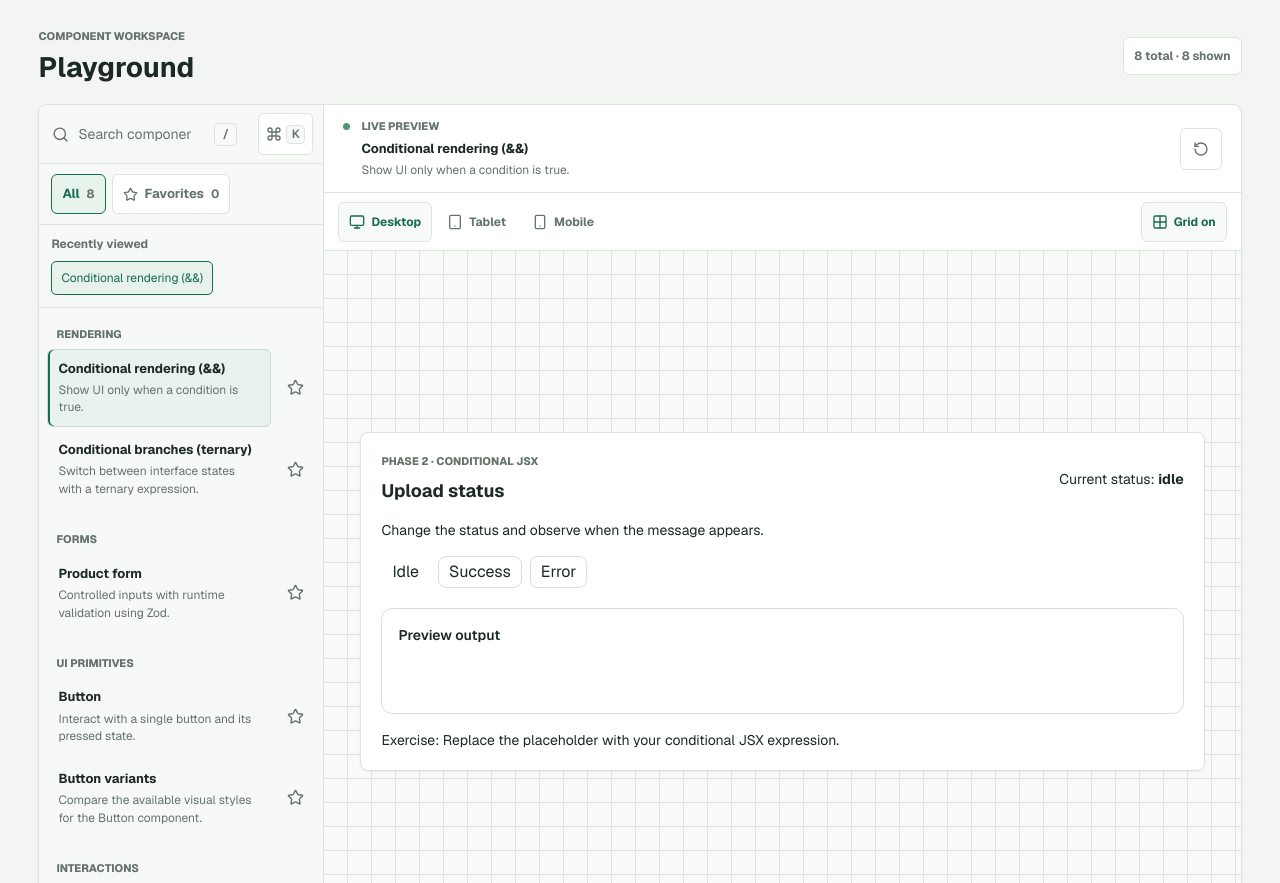
Scenario: Playground interactions › searches and filters examples, reports the count, and clears empty results
Check: the heading "Playground" is shown, box left=38, top=50, right=194, bottom=84
Type "counter" into the search field labelled "Search components" at (142, 134), box left=78, top=113, right=205, bottom=155
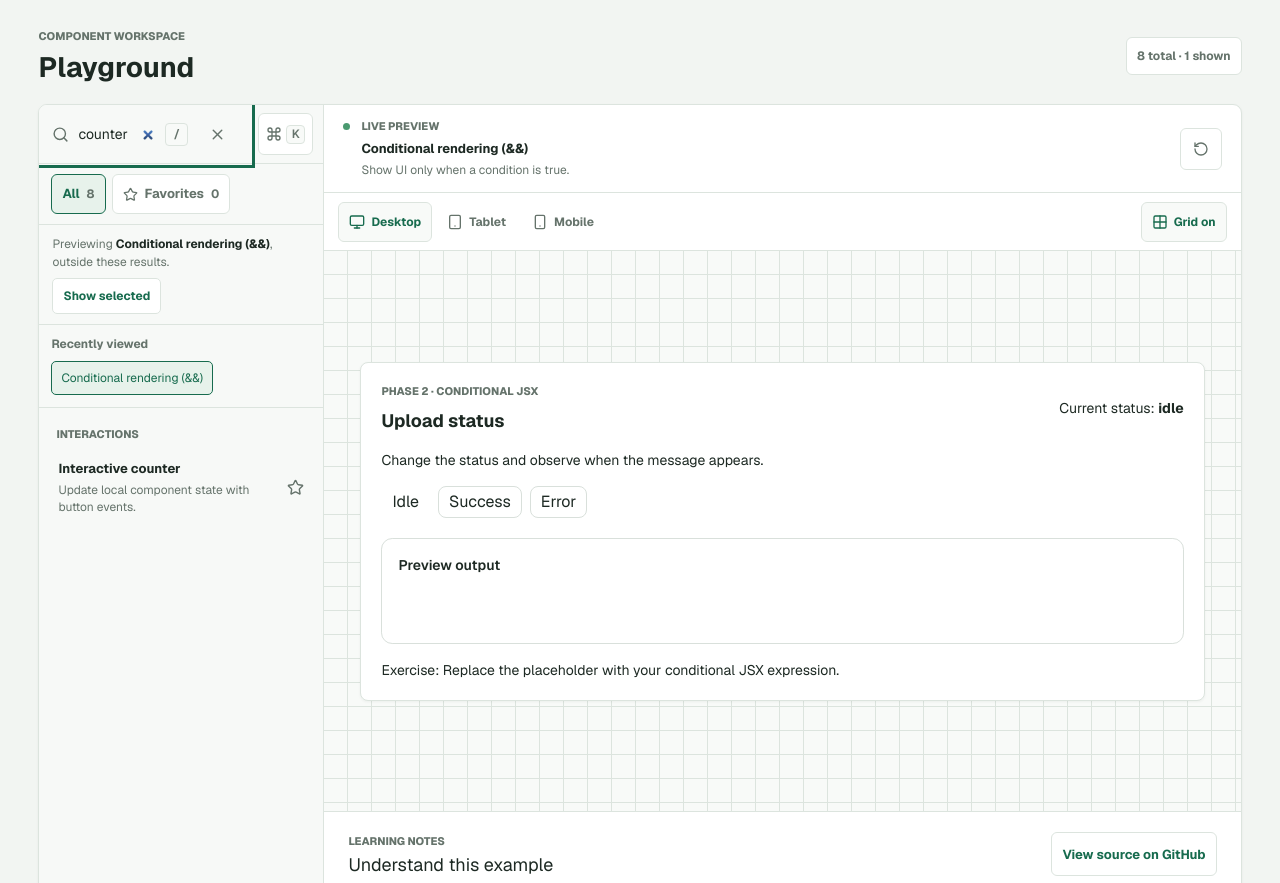
Check: the heading "Interactions" is shown, box left=56, top=427, right=139, bottom=441
Check: the text "8 total · 1 shown" is shown, box left=1126, top=37, right=1242, bottom=75
Check: the button "Product form" is gone
Clear the search field named "Search components" at (117, 134), box left=78, top=113, right=156, bottom=155
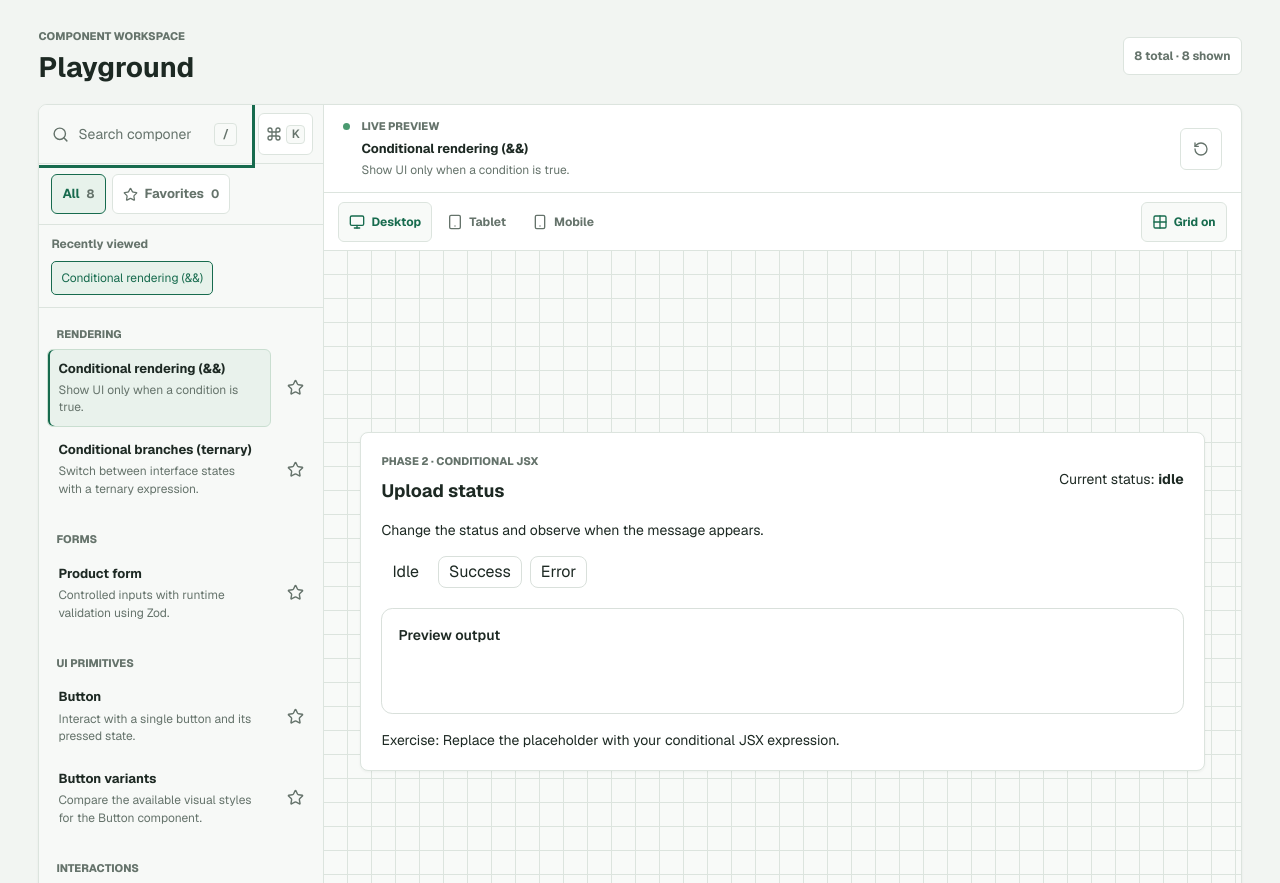
Type "no matching example" into the search field labelled "Search components" at (142, 134), box left=78, top=113, right=205, bottom=155
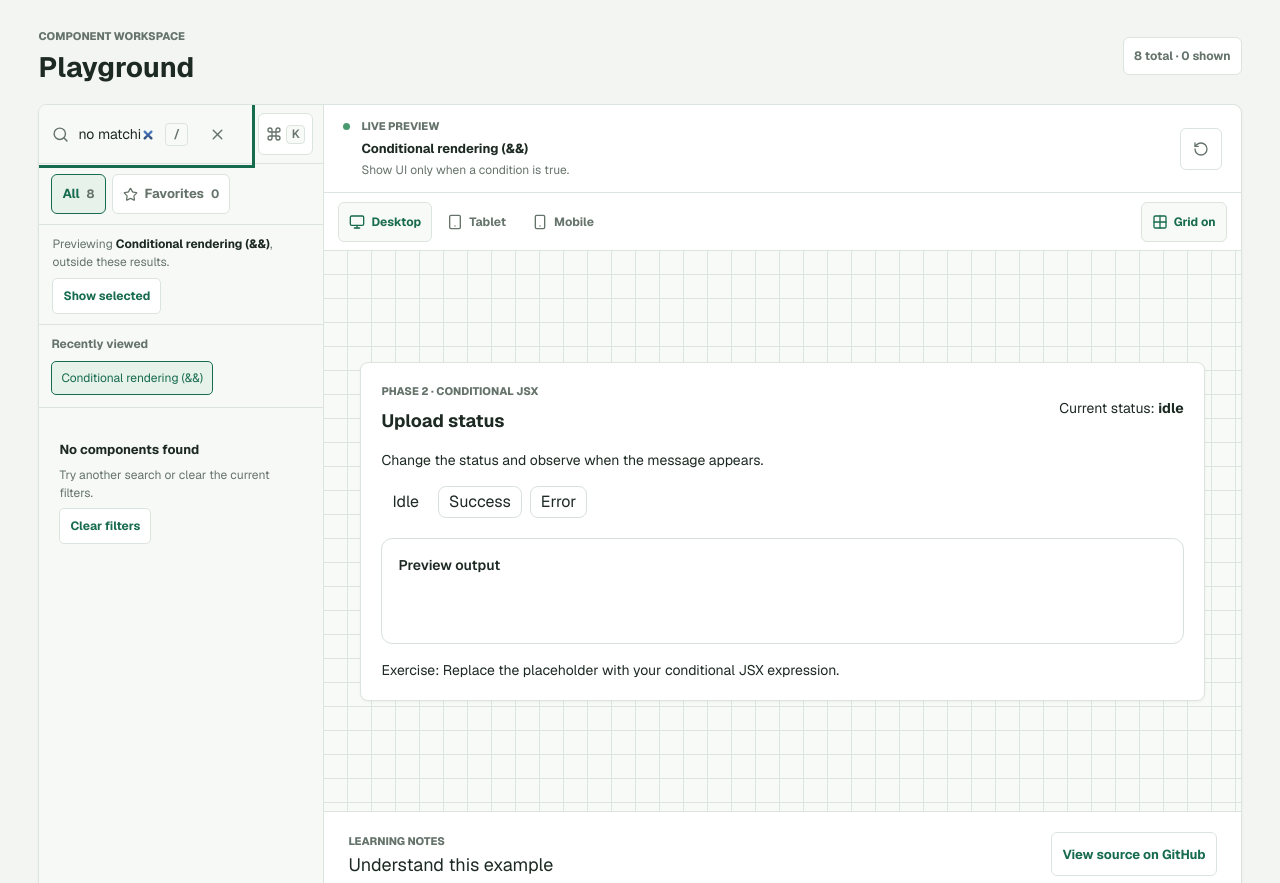
Check: the text "No components found" is shown, box left=59, top=441, right=199, bottom=458
Click the button "Clear filters" at (105, 526), box left=59, top=508, right=151, bottom=544
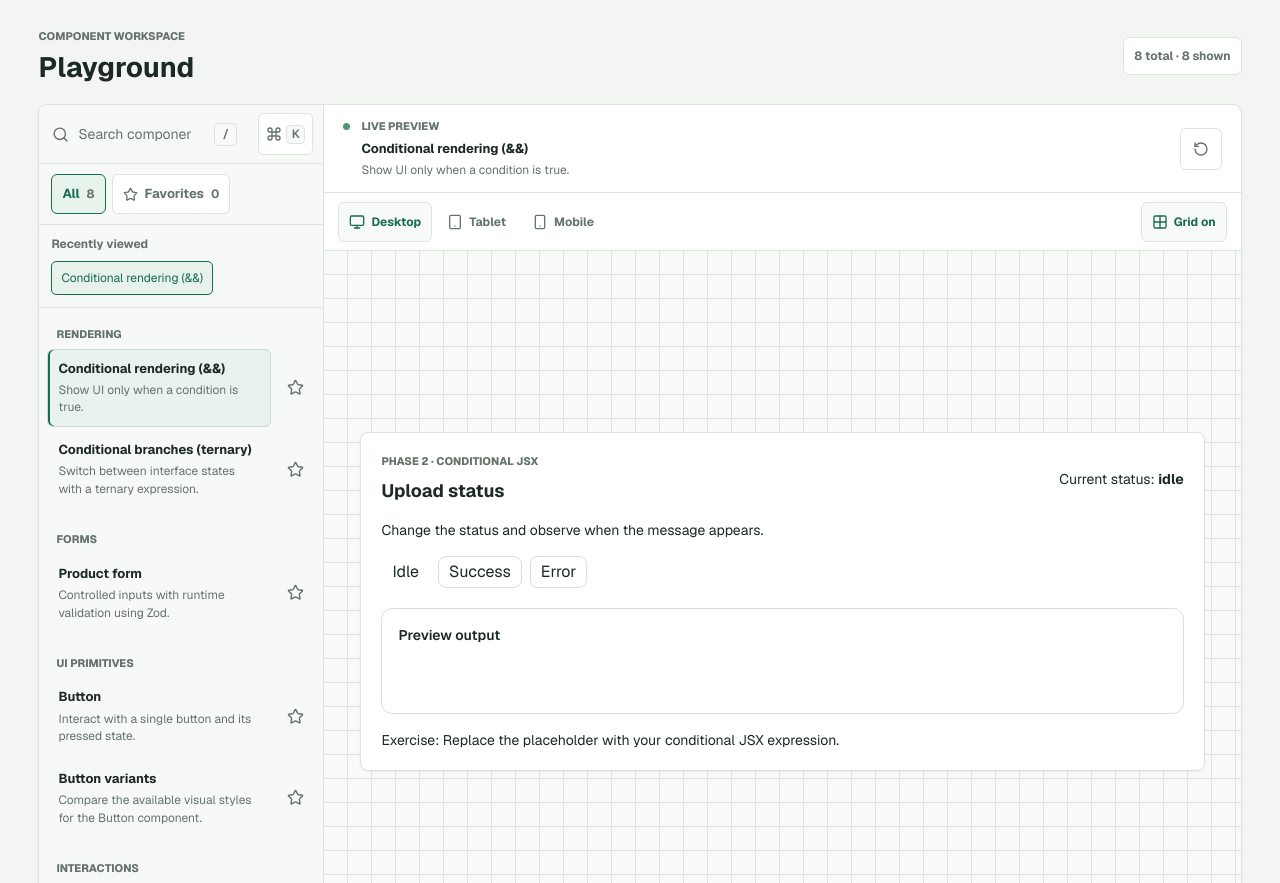
Check: the text "8 total · 8 shown" is shown, box left=1123, top=37, right=1242, bottom=75
